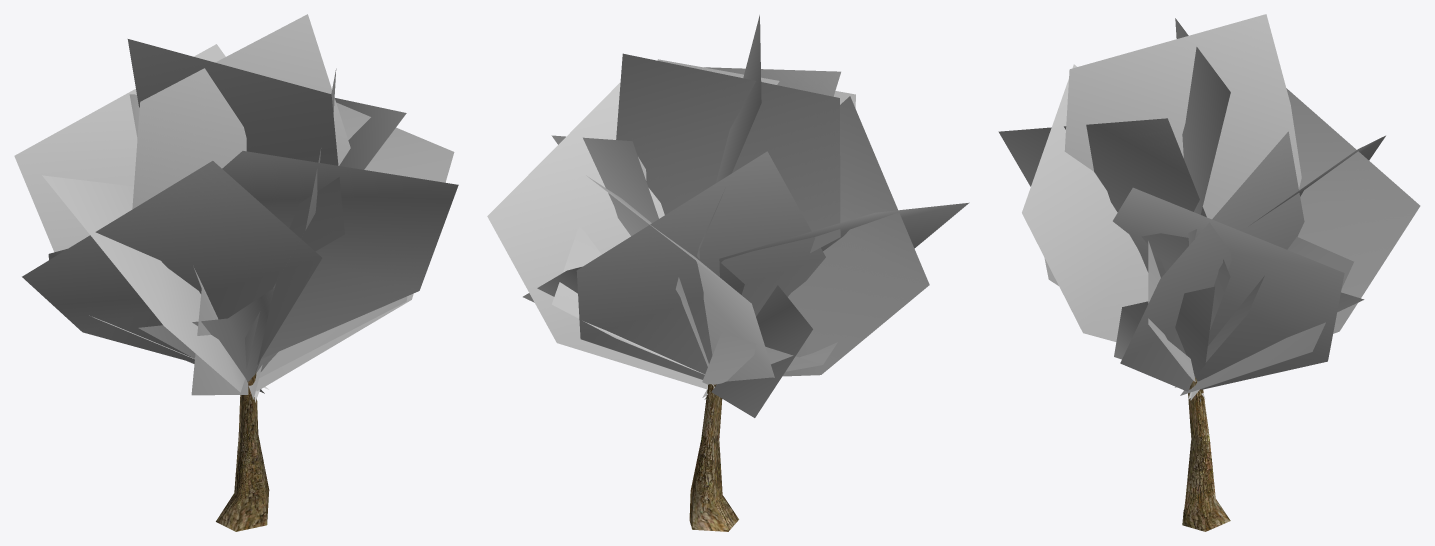
The model's file is tree 3.FBX.
3 views of the same model, side by side, from view 1: azimuth 30°, elevation 25°; view 2: azimuth 150°, elevation 25°; view 3: azimuth 270°, elevation 25° (orthographic). The views are drawn at different scales.
Visible parts, largest first — view 1: MepTree4_25; view 2: MepTree4_25; view 3: MepTree4_25.
Part boxes in pixels (x1,y1,x2,y2): MepTree4_25: [14, 14, 458, 531]; MepTree4_25: [487, 15, 969, 531]; MepTree4_25: [998, 14, 1420, 531].
Bounding box in the file's own units: 160 × 178 × 146.
